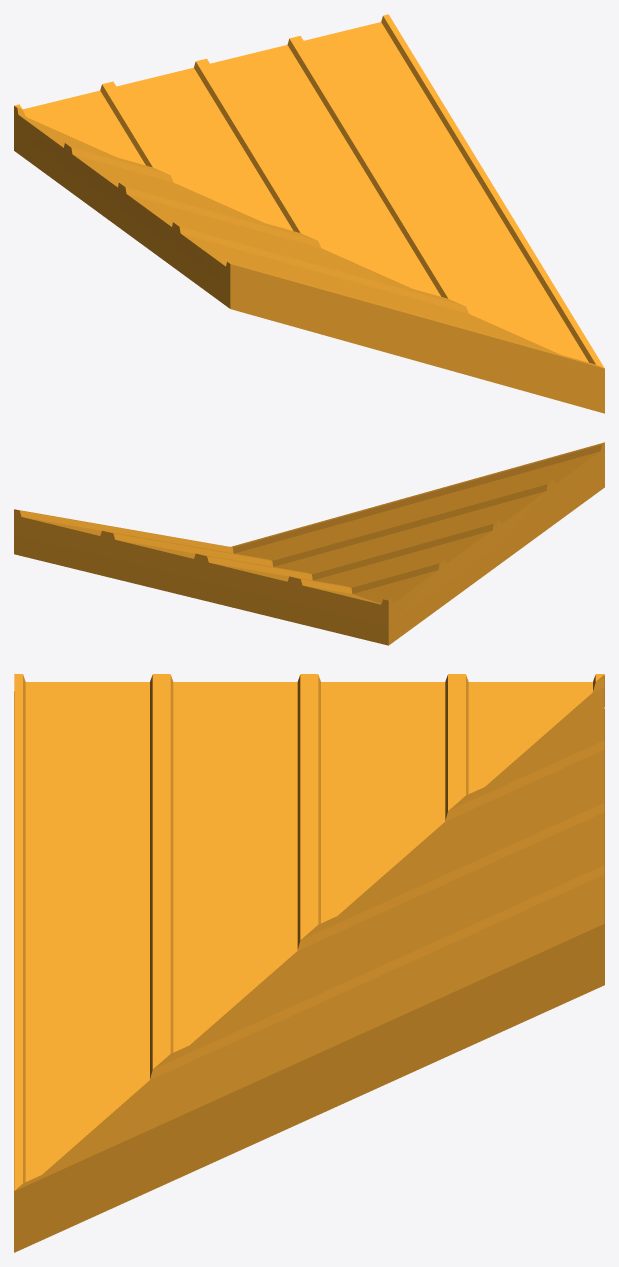
Rendered from SM_Roof_Metal_Moderate_2x2m_Corner_B.fbx.
3 views of the same model, one above another, from view 1: azimuth 30°, elevation 25°; view 2: azimuth 150°, elevation 25°; view 3: azimuth 270°, elevation 25° (orthographic). The views are drawn at different scales.
Visible parts, largest first — view 1: roof-metal-moderate-2x2m-corner-b; view 2: roof-metal-moderate-2x2m-corner-b; view 3: roof-metal-moderate-2x2m-corner-b.
Boxes of the visible parts, x1,y1,x2,y2 form: roof-metal-moderate-2x2m-corner-b: (14, 14, 604, 413); roof-metal-moderate-2x2m-corner-b: (14, 442, 604, 645); roof-metal-moderate-2x2m-corner-b: (14, 674, 604, 1252).
Size of the model in its own units: 2 by 1.23 by 2.
